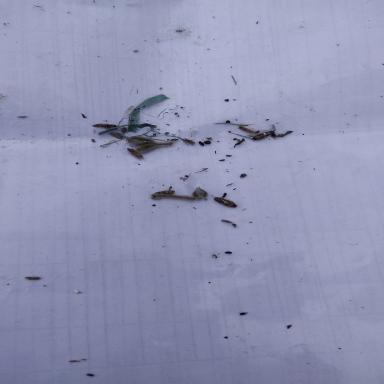pbw: (211, 196, 239, 208), (249, 130, 275, 142), (92, 122, 119, 130), (127, 148, 143, 159), (152, 190, 174, 198), (239, 126, 258, 135), (108, 132, 124, 139), (25, 276, 40, 280), (221, 219, 233, 223)
